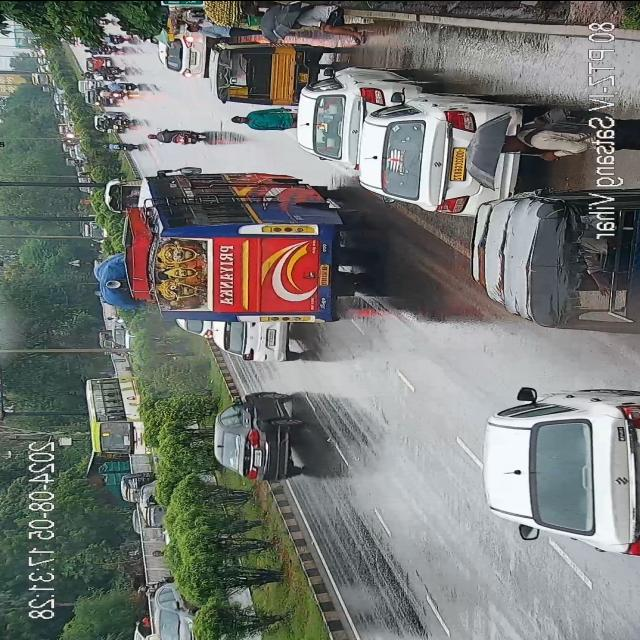2-wheelers: (146, 125, 204, 149), (102, 80, 138, 92), (86, 44, 122, 53), (102, 142, 140, 150), (96, 32, 122, 42), (96, 90, 125, 98), (95, 124, 128, 130), (94, 66, 124, 72), (90, 74, 120, 80), (98, 120, 132, 124)
auto: (466, 194, 640, 346), (209, 39, 308, 105), (132, 476, 166, 534)
bus: (118, 162, 369, 324), (93, 374, 153, 462)
car: (474, 383, 640, 551), (361, 86, 502, 210), (296, 66, 398, 166), (212, 390, 300, 485), (208, 323, 302, 361), (148, 583, 198, 640), (160, 32, 210, 84), (178, 322, 215, 344), (94, 110, 120, 122), (86, 54, 108, 66), (86, 97, 112, 107), (79, 80, 97, 90)
pedestrian: (278, 2, 372, 48), (481, 125, 596, 158), (187, 21, 260, 43), (228, 108, 294, 130), (168, 15, 200, 26)
